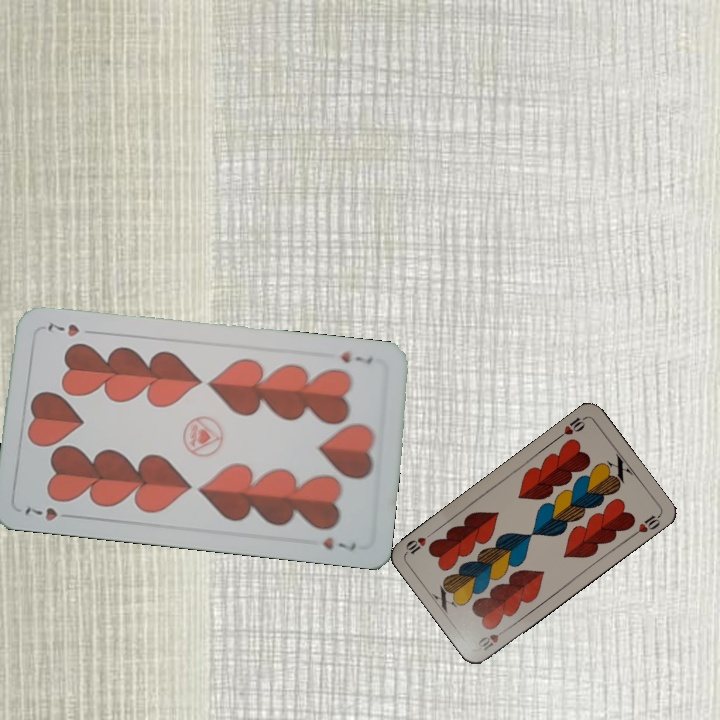H10: (474, 624, 510, 654), (553, 413, 588, 442)
H7: (21, 503, 77, 524), (337, 347, 375, 366)
